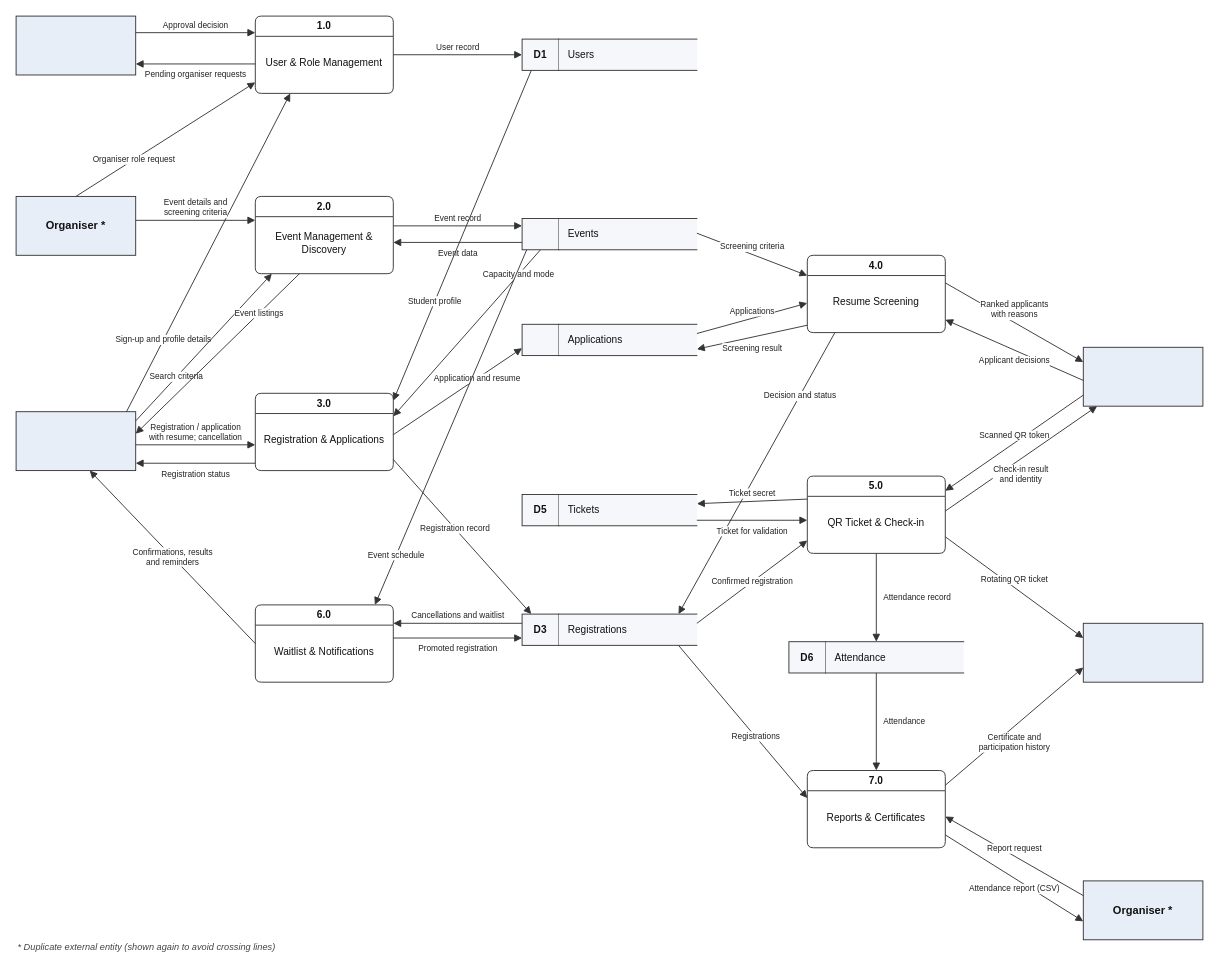
This 1219x971 diagram has some shape labels left out. The centre of each missing label's shape, as x and y in pixels:
"Admin" belongs at point (75, 45).
"D2" belongs at point (540, 234).
"D4" belongs at point (540, 339).
"Organiser" belongs at point (1142, 376).
"Student" belongs at point (75, 441).
"Student *" belongs at point (1142, 652).
